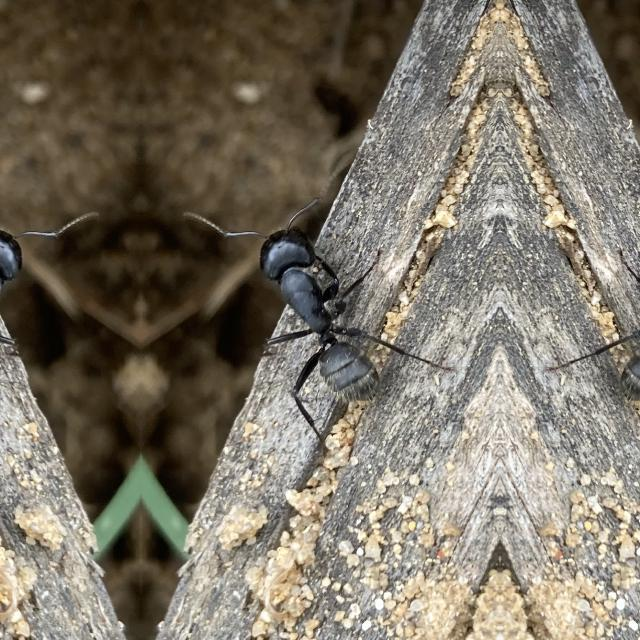Camponotus: (208, 178, 428, 438), (570, 176, 640, 438), (0, 176, 70, 437)
